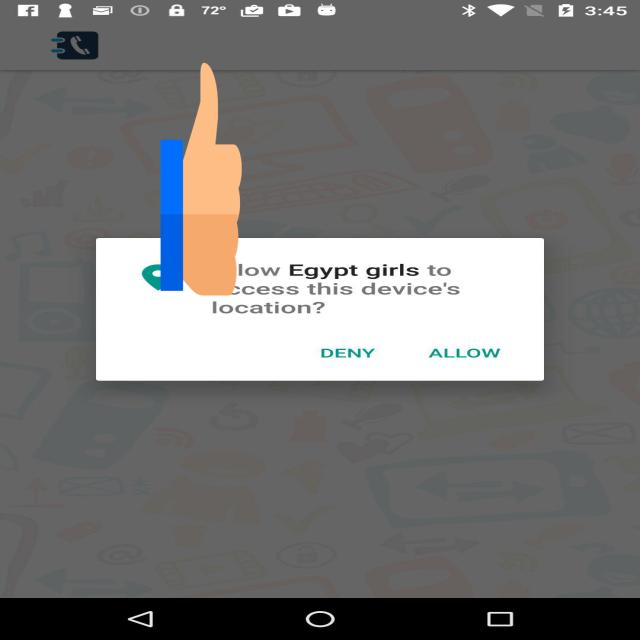privacy zuckering: (160, 57, 242, 301)
